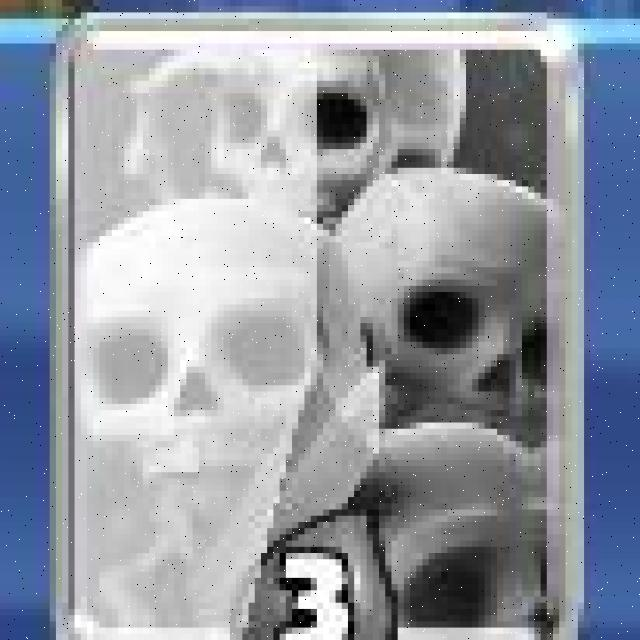Skeleton_Army: (60, 20, 585, 640)
